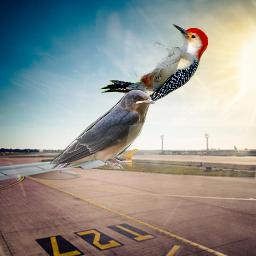Swallow: (50, 89, 155, 174)
Woodpecker: (99, 24, 208, 112)
